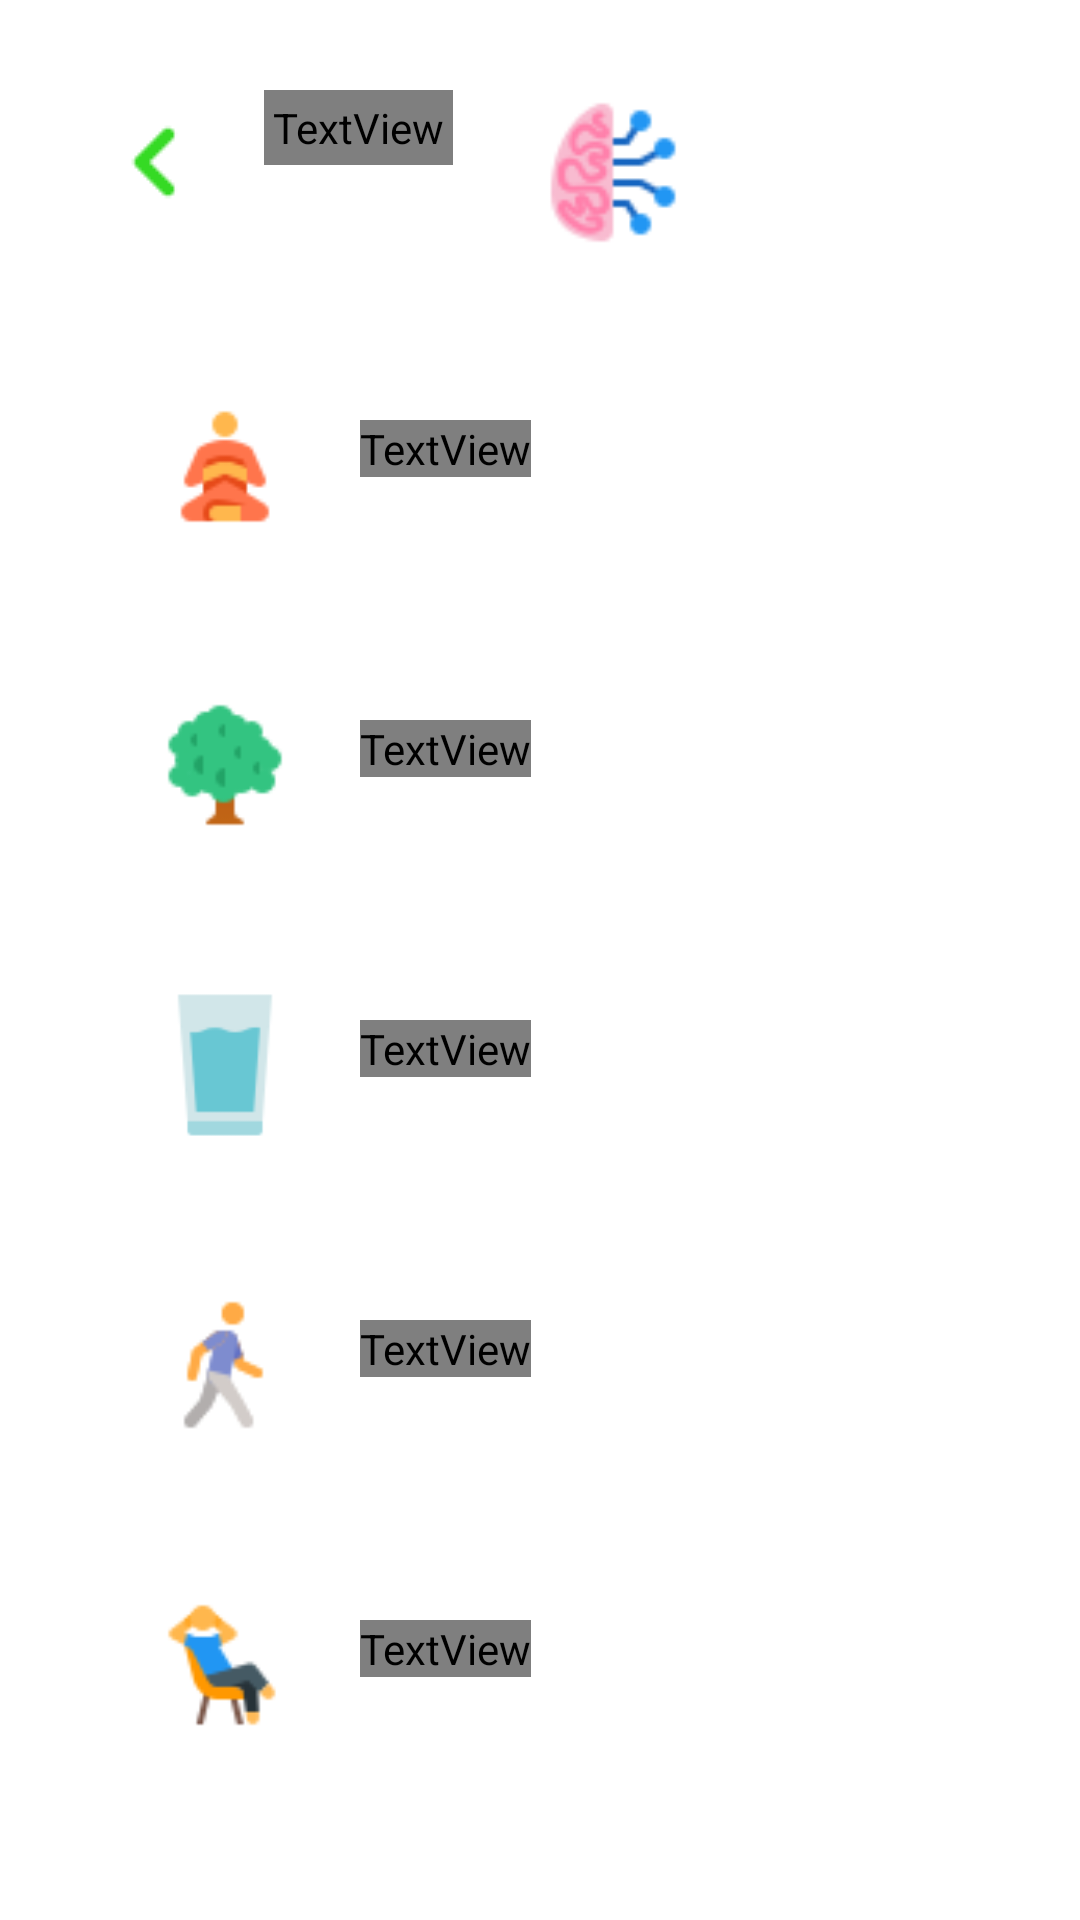

Screen size 1080px×1920px. Icon name, then its center in pixels as (x=x, y=y):
back: (x=153, y=162)
